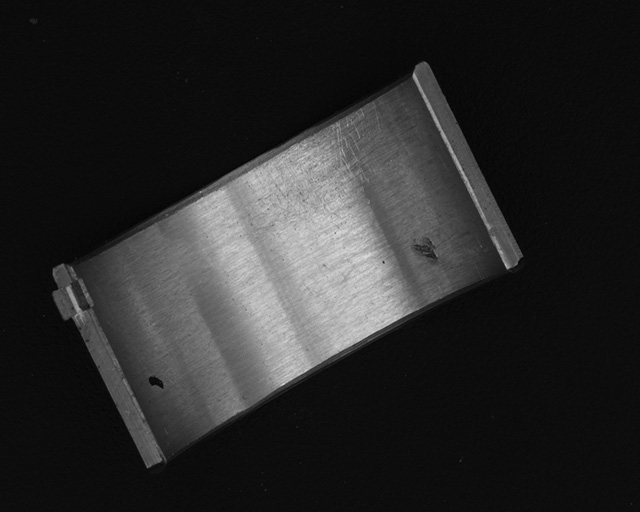blot: (147, 375, 165, 391)
bruise: (410, 236, 440, 263)
scratch: (261, 102, 383, 214)
